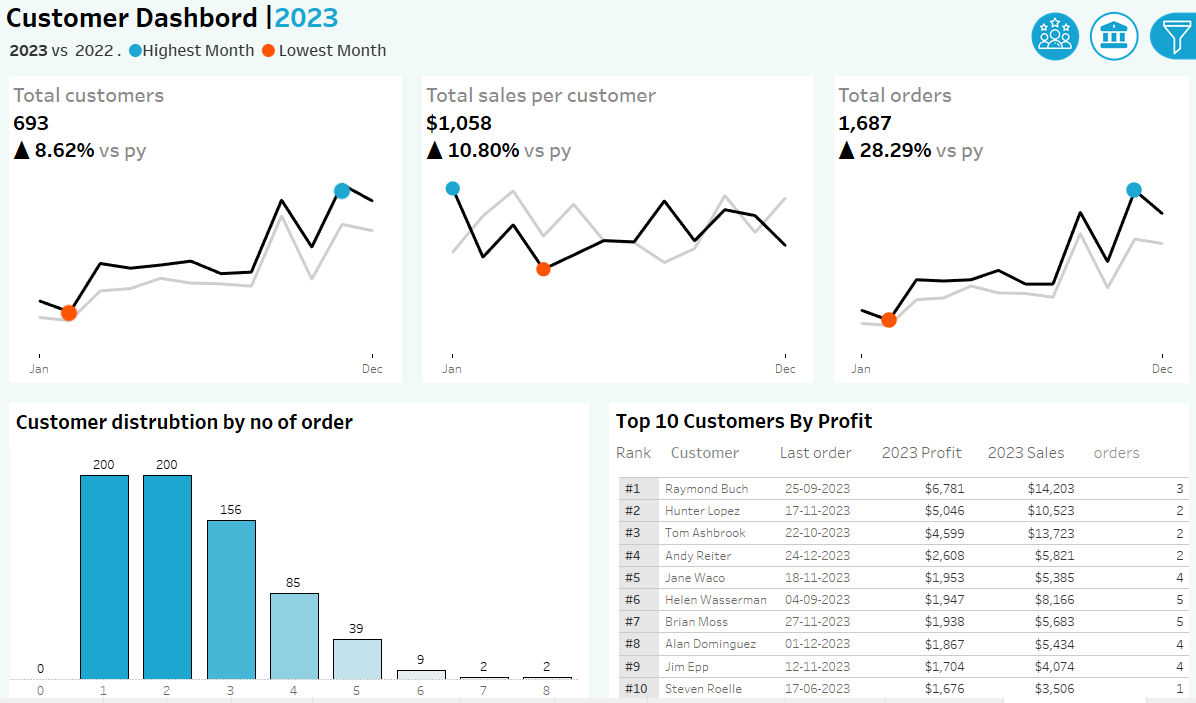

Layout of this report page (visuals, bound fields, positions):
{"tool":"tableau","page":{"name":"customer dashbord","canvas":[1200,720],"ordinal":0},"visuals":[{"type":"text","box":[0,0,1200,32.9]},{"type":"dashboard-object","box":[1026,7.2,60,58.5]},{"type":"dashboard-object","box":[1086,7.2,59,58.5]},{"type":"dashboard-object","box":[1145,7.2,59,58.5]},{"type":"worksheet","title":"kpi for sub title","mark":"Automatic","box":[0,32.9,1200,32.8]},{"type":"text","box":[1041,57.6,160,36]},{"type":"worksheet","title":"kpi costomer","mark":"Line","rows":["min/max  profit (copy)_163537014432587780"],"cols":["Order Date"],"box":[0,65.7,412.5,327.1]},{"type":"worksheet","title":"kpi sales by per customer","mark":"Automatic","rows":["min/max  customer (copy)_163537014500614154"],"cols":["Order Date"],"box":[412.5,65.7,412.5,327.1]},{"type":"worksheet","title":"KPI ORDERS","mark":"Line","rows":["min/max sales (copy)_794603912531836933"],"cols":["Order Date"],"box":[825,65.7,375,327.1]},{"type":"parameter","param":"[Parameters].[Parameter 1]","box":[1041,93.6,160,44.7]},{"type":"blank","box":[1041,138.3,160,32]},{"type":"text","box":[1041,170.3,160,30]},{"type":"filter","title":"kpi costomer","param":"[federated.1z0qqhl03mdd3e151hpz61c4dv0s].[none:Category:nk]","box":[1041,200.3,160,44.7]},{"type":"filter","title":"kpi costomer","param":"[federated.1z0qqhl03mdd3e151hpz61c4dv0s].[none:Sub-Category:nk]","box":[1041,245.1,160,44.7]},{"type":"blank","box":[1041,289.8,160,32]},{"type":"text","box":[1041,321.8,160,30]},{"type":"filter","title":"kpi costomer","param":"[federated.1z0qqhl03mdd3e151hpz61c4dv0s].[none:Region:nk]","box":[1041,351.8,160,44.7]},{"type":"filter","title":"kpi costomer","param":"[federated.1z0qqhl03mdd3e151hpz61c4dv0s].[none:City:nk]","box":[1041,396.5,160,44.7]},{"type":"text","box":[10,403,580,35]},{"type":"text","box":[610,403,580,34]},{"type":"text","box":[610,437,55,30]},{"type":"text","box":[665,437,109,30]},{"type":"text","box":[774,437,102,30]},{"type":"text","box":[876,437,106,30]},{"type":"text","box":[982,437,106,30]},{"type":"text","box":[1088,437,102,30]},{"type":"worksheet","title":"customer distribution","mark":"Automatic","rows":["cy profit (copy)_163537014426673153"],"cols":["Calculation_794603912545644554"],"box":[10,438,580,272]},{"type":"filter","title":"kpi costomer","param":"[federated.1z0qqhl03mdd3e151hpz61c4dv0s].[none:State:nk]","box":[1041,441.3,160,44.7]},{"type":"worksheet","title":"Top 10 customer","mark":"Automatic","rows":["Calculation_794603912556990476","Customer Name","Order Date"],"box":[610,467,580,243]}]}

Visuals, with their boxes in screenshot pixels (x1, y1, x2, y2), scaled from the page's 1200x720 canvas onto the 1196x703 screenshot:
text: rect(0, 0, 1195, 32)
dashboard-object: rect(1023, 7, 1082, 64)
dashboard-object: rect(1082, 7, 1141, 64)
dashboard-object: rect(1141, 7, 1195, 64)
"kpi for sub title" worksheet: rect(0, 32, 1195, 64)
text: rect(1038, 56, 1195, 91)
"kpi costomer" worksheet (Line marks): rect(0, 64, 411, 384)
"kpi sales by per customer" worksheet: rect(411, 64, 822, 384)
"KPI ORDERS" worksheet (Line marks): rect(822, 64, 1195, 384)
parameter: rect(1038, 91, 1195, 135)
blank: rect(1038, 135, 1195, 166)
text: rect(1038, 166, 1195, 196)
"kpi costomer" filter: rect(1038, 196, 1195, 239)
"kpi costomer" filter: rect(1038, 239, 1195, 283)
blank: rect(1038, 283, 1195, 314)
text: rect(1038, 314, 1195, 343)
"kpi costomer" filter: rect(1038, 343, 1195, 387)
"kpi costomer" filter: rect(1038, 387, 1195, 431)
text: rect(10, 393, 588, 428)
text: rect(608, 393, 1186, 427)
text: rect(608, 427, 663, 456)
text: rect(663, 427, 771, 456)
text: rect(771, 427, 873, 456)
text: rect(873, 427, 979, 456)
text: rect(979, 427, 1084, 456)
text: rect(1084, 427, 1186, 456)
"customer distribution" worksheet: rect(10, 428, 588, 693)
"kpi costomer" filter: rect(1038, 431, 1195, 475)
"Top 10 customer" worksheet: rect(608, 456, 1186, 693)
